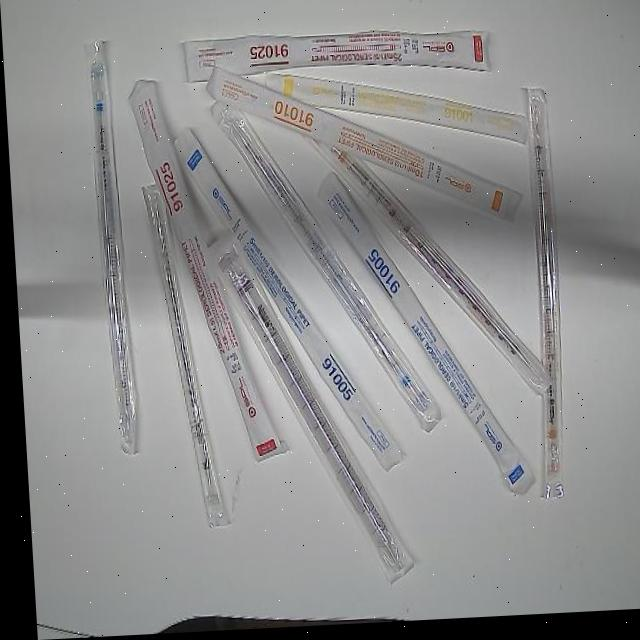Serelogical Pipet 1 mL - Sealed: (261, 63, 538, 165)
Serelogical Pipet 10 mL - Sealed: (308, 125, 549, 410), (204, 57, 526, 242), (518, 90, 571, 514)
Serelogical Pipet 2 mL - Sealed: (137, 180, 228, 536)
Serelogical Pipet 25 mL - Sealed: (124, 72, 284, 471), (179, 26, 495, 93)
Serelogical Pipet 5 mL - Sealed: (169, 121, 402, 486), (206, 88, 442, 448), (310, 165, 531, 510), (83, 33, 144, 461)
Serelogical Pipet 50 mL - Sealed: (203, 227, 415, 594)
